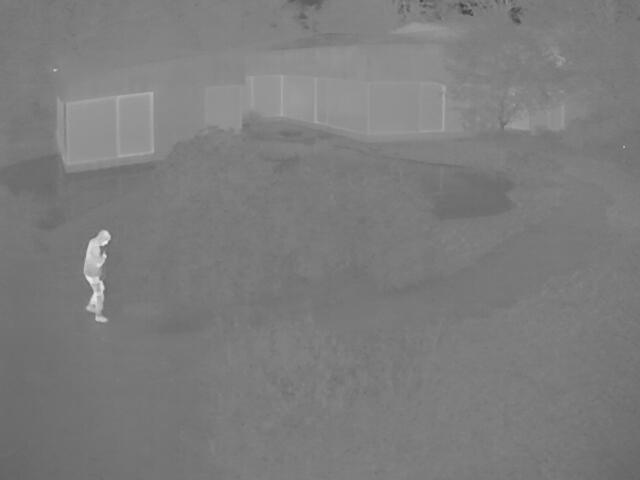person: (83, 229, 110, 324)
